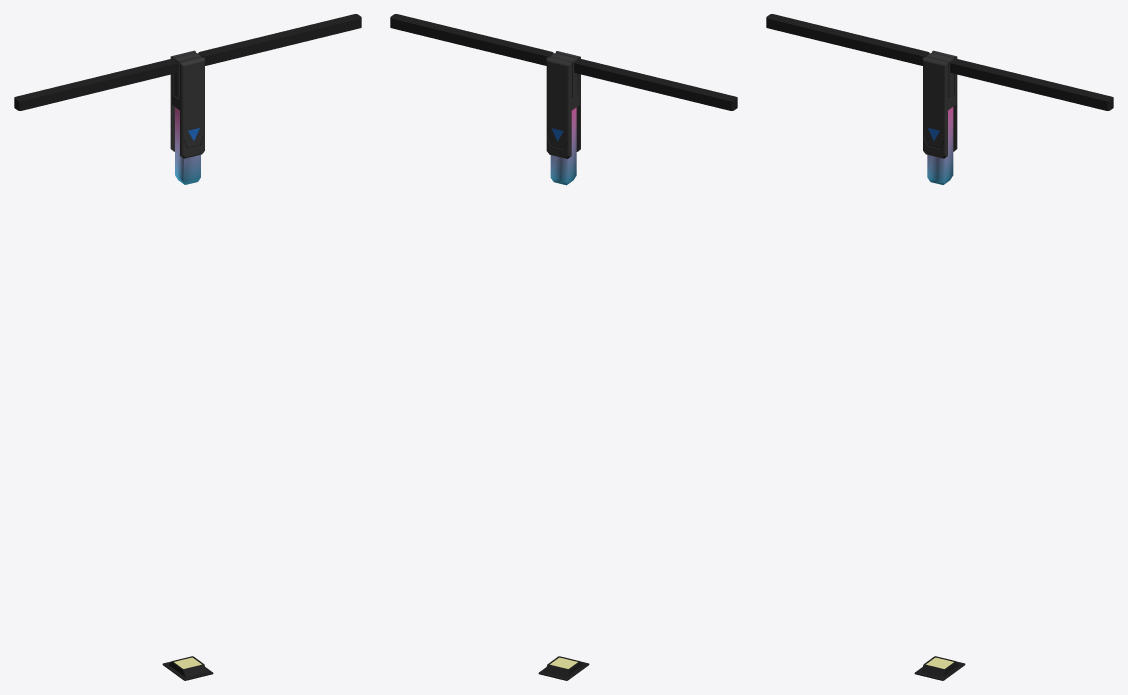
Rendered from W_AD_Streetlamp_a_001_L0.fbx.
3 views of the same model, side by side, from view 1: azimuth 30°, elevation 25°; view 2: azimuth 150°, elevation 25°; view 3: azimuth 330°, elevation 25° (orthographic).
Parts seen in each view (by area): view 1: W_O_Streetlamp_004_a_L0; view 2: W_O_Streetlamp_004_a_L0; view 3: W_O_Streetlamp_004_a_L0.
Boxes of the visible parts, left/top/right/bottom form: W_O_Streetlamp_004_a_L0: left=14, top=14, right=361, bottom=680; W_O_Streetlamp_004_a_L0: left=390, top=14, right=737, bottom=680; W_O_Streetlamp_004_a_L0: left=766, top=14, right=1113, bottom=680.
Size of the model in its own units: 2.72 by 4.63 by 0.31.
